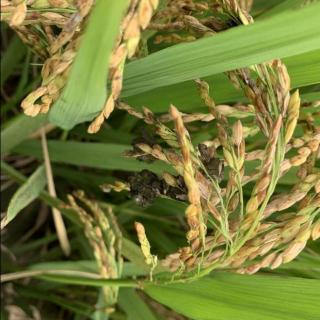Gosong-Palsu: (126, 172, 190, 208), (131, 134, 161, 167), (202, 155, 225, 184)
